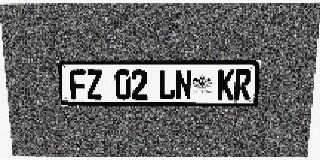0: (115, 69, 131, 100)
2: (131, 69, 147, 100)
F: (69, 69, 86, 99)
K: (217, 69, 235, 100)
L: (159, 69, 175, 100)
N: (175, 69, 192, 100)
R: (234, 69, 251, 100)
Z: (86, 69, 103, 100)
